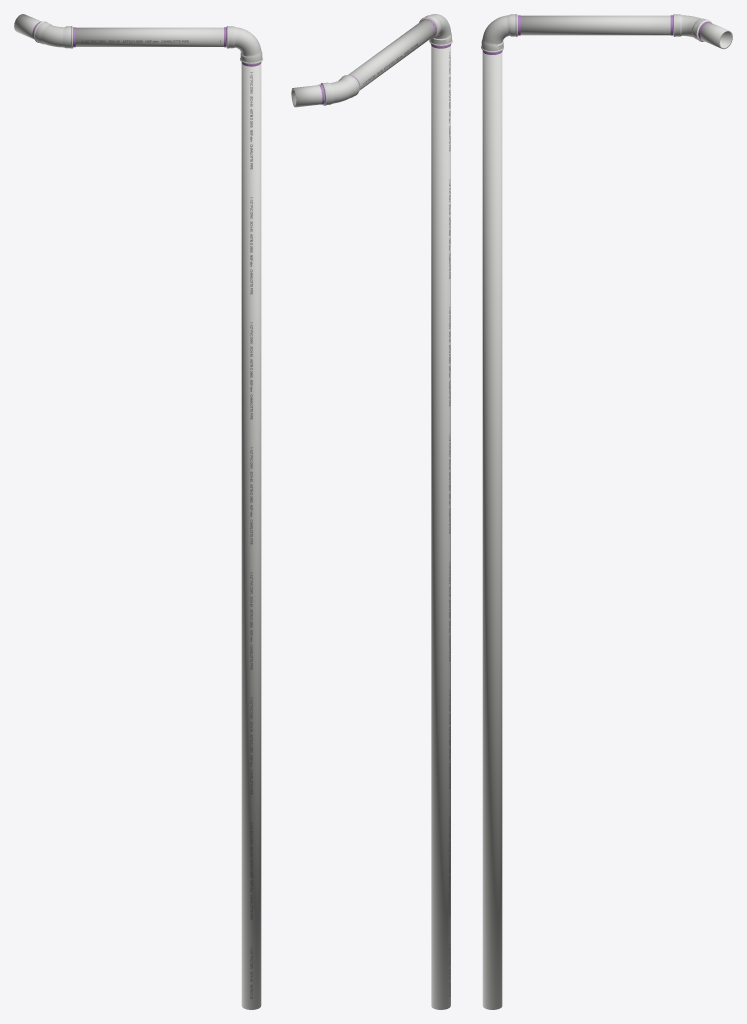
The model's file is slab_pipes_dwv__fault-none+belly+vent_open_attic+standpipe_no_trap+condensate_trap_dry.glb.
3 renders of one model, left to right at view 1: azimuth 90°, elevation 25°; view 2: azimuth 150°, elevation 25°; view 3: azimuth 270°, elevation 25°, orthographic.
Parts seen in each view (by area): view 1: vent_dwv_hallbath_vanity; view 2: vent_dwv_hallbath_vanity; view 3: vent_dwv_hallbath_vanity.
Boxes of the visible parts, x1,y1,x2,y2 form: vent_dwv_hallbath_vanity: (14,14,262,1009); vent_dwv_hallbath_vanity: (291,14,452,1009); vent_dwv_hallbath_vanity: (481,14,732,1009).
Size of the model in its own units: 0.1281 by 2.67 by 0.6155.
Materials: 4 (1 with a texture image).
